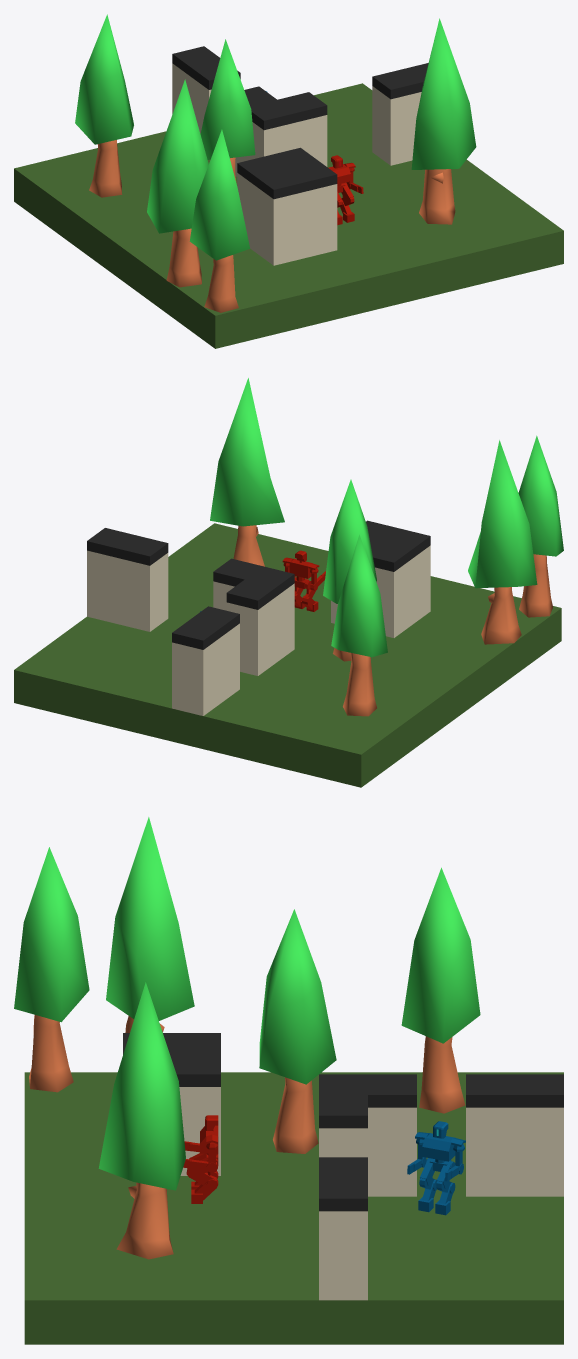
Rendered from Arena_2.glb.
3 views of the same model, one above another, from view 1: azimuth 30°, elevation 25°; view 2: azimuth 150°, elevation 25°; view 3: azimuth 270°, elevation 25° (orthographic). The views are drawn at different scales.
Parts seen in each view (by area): view 1: Tree.011, Tree.006, Tree.010, Tree.009, Wall.011, Wall.003, Tree.005, Wall.002, Wall.009, Wall.019, Cube.096, Wall.010 (+56 smaller); view 2: Tree.006, Tree.011, Tree.010, Tree.009, Wall.003, Wall.004, Wall.001, Tree.005, Wall.010, Wall.015, Cube.063, Wall.005 (+62 smaller); view 3: Tree.011, Tree.005, Tree.010, Tree.009, Tree.006, Wall.004, Wall.005, Wall.015, Wall.001, Wall.008, Cube.105, Cube.122 (+70 smaller).
Boxes of the visible parts, x1,y1,x2,y2 form: Tree.011: [411, 18, 476, 224]; Tree.006: [147, 79, 208, 287]; Tree.010: [75, 14, 133, 197]; Tree.009: [189, 129, 249, 312]; Wall.011: [255, 169, 305, 265]; Wall.003: [372, 69, 422, 165]; Tree.005: [200, 39, 255, 181]; Wall.002: [287, 161, 337, 257]; Wall.009: [245, 100, 295, 160]; Wall.019: [277, 92, 327, 166]; Cube.096: [197, 300, 246, 348]; Wall.010: [237, 155, 286, 251]; Tree.006: [468, 440, 537, 644]; Tree.011: [210, 378, 284, 566]; Tree.010: [331, 534, 387, 716]; Tree.009: [518, 435, 563, 617]; Wall.003: [118, 535, 168, 631]; Wall.004: [172, 619, 221, 715]; Wall.001: [226, 579, 276, 675]; Tree.005: [323, 479, 376, 661]; Wall.010: [371, 541, 412, 637]; Wall.015: [87, 528, 136, 623]; Cube.063: [329, 733, 379, 787]; Wall.005: [190, 606, 239, 702]; Tree.011: [98, 982, 185, 1259]; Tree.005: [259, 909, 336, 1153]; Tree.010: [401, 867, 480, 1113]; Tree.009: [14, 847, 89, 1092]; Tree.006: [106, 817, 194, 1032]; Wall.004: [515, 1074, 563, 1196]; Wall.005: [466, 1074, 514, 1196]; Wall.015: [319, 1178, 367, 1300]; Wall.001: [368, 1074, 416, 1196]; Wall.008: [172, 1053, 220, 1175]; Cube.105: [24, 1279, 73, 1344]; Cube.122: [407, 1121, 465, 1215].
Bounding box in the file's own units: 23 × 14 × 22.44.
